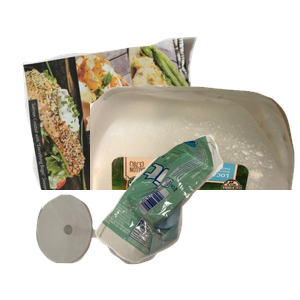glass: (34, 192, 187, 300)
paper: (20, 34, 221, 214)
plastic: (90, 82, 300, 262)
trash: (92, 133, 300, 300)
